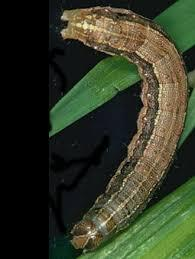fallarmy_worm: (51, 6, 193, 252)
